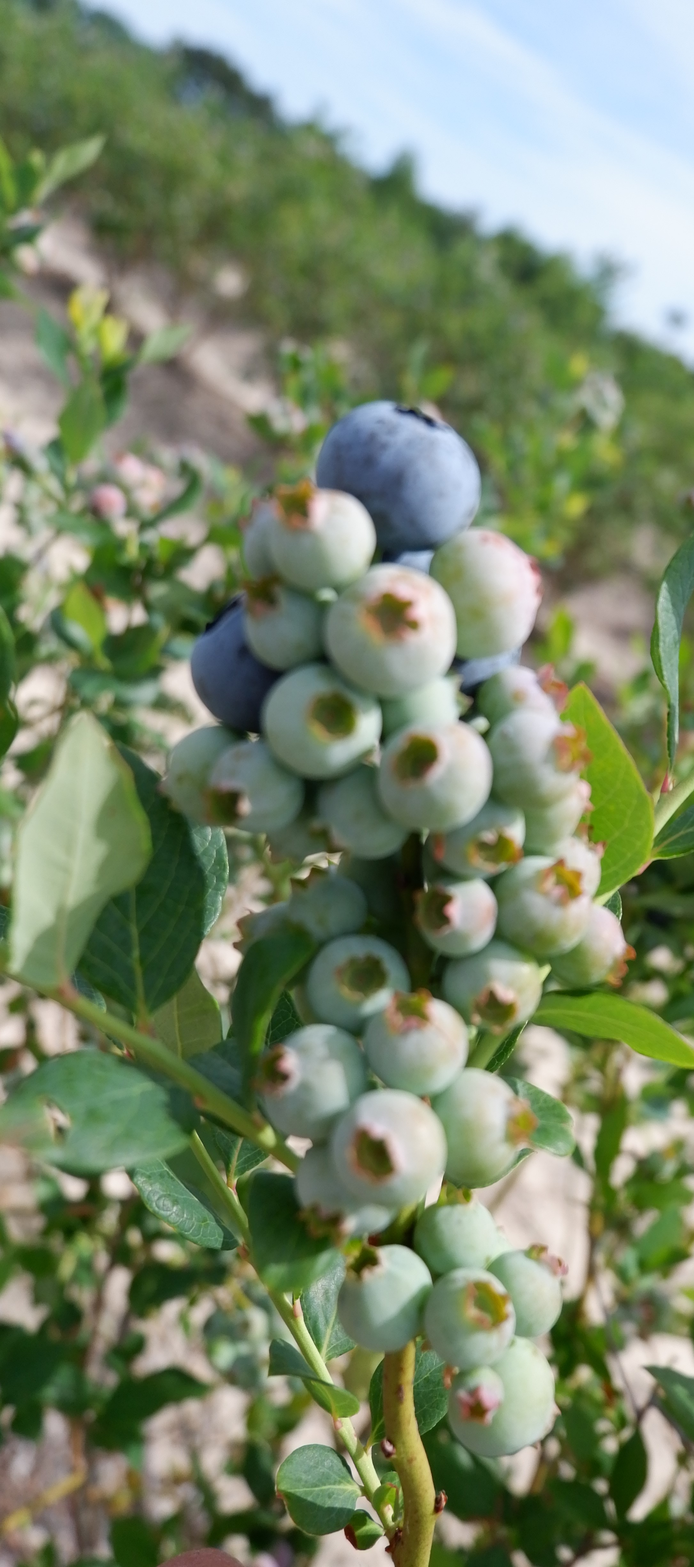Immature: (327, 568, 453, 694), (446, 1335, 561, 1458), (432, 529, 543, 655), (266, 665, 380, 777), (333, 1094, 444, 1208), (260, 1029, 367, 1138), (381, 723, 491, 828), (260, 486, 374, 587), (435, 1074, 535, 1186), (306, 932, 409, 1038), (364, 993, 467, 1094), (299, 1142, 404, 1234), (496, 857, 590, 957), (339, 1247, 429, 1351), (440, 938, 543, 1027), (491, 712, 586, 807), (207, 740, 303, 831), (425, 1271, 514, 1368), (319, 764, 404, 855), (428, 796, 523, 877), (246, 580, 328, 665), (160, 731, 234, 824), (417, 1197, 502, 1275), (552, 906, 631, 989), (488, 1250, 561, 1338), (417, 880, 496, 955), (289, 868, 366, 942), (477, 669, 566, 726), (262, 800, 331, 870), (381, 678, 464, 736), (522, 786, 589, 844), (538, 831, 600, 889), (241, 486, 277, 579), (449, 1366, 504, 1422)
Mature: (321, 404, 477, 556), (193, 597, 280, 728), (441, 639, 525, 696)
